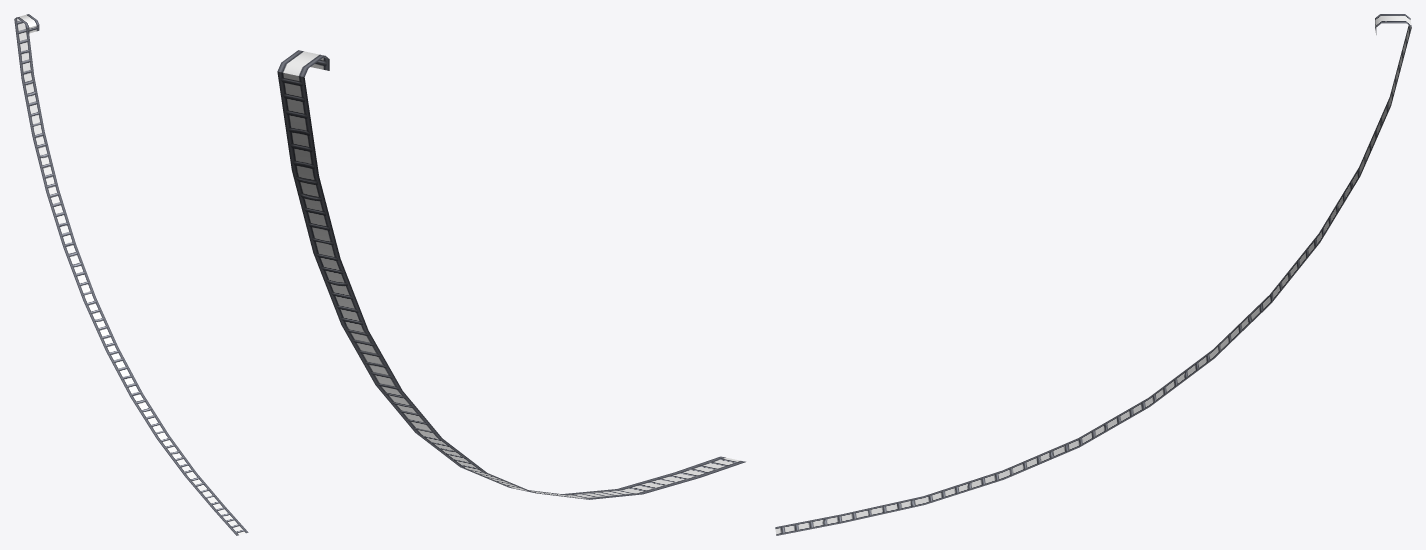
Rendered from shendian_tongdao.FBX.
The picture shows the model from 3 angles, left to right: view 1: azimuth 30°, elevation 25°; view 2: azimuth 150°, elevation 25°; view 3: azimuth 270°, elevation 25°; orthographic projection. The views are drawn at different scales.
Parts seen in each view (by area): view 1: shendian_zhiwu_tongdao; view 2: shendian_zhiwu_tongdao; view 3: shendian_zhiwu_tongdao.
Boxes of the visible parts, bbox=[...] form: shendian_zhiwu_tongdao: bbox=[14, 14, 248, 535]; shendian_zhiwu_tongdao: bbox=[277, 50, 745, 499]; shendian_zhiwu_tongdao: bbox=[775, 14, 1411, 535].
Size of the model in its own units: 168 by 4346 by 4891.
